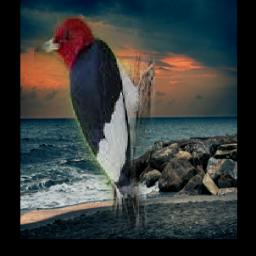Woodpecker: (35, 17, 156, 234)
